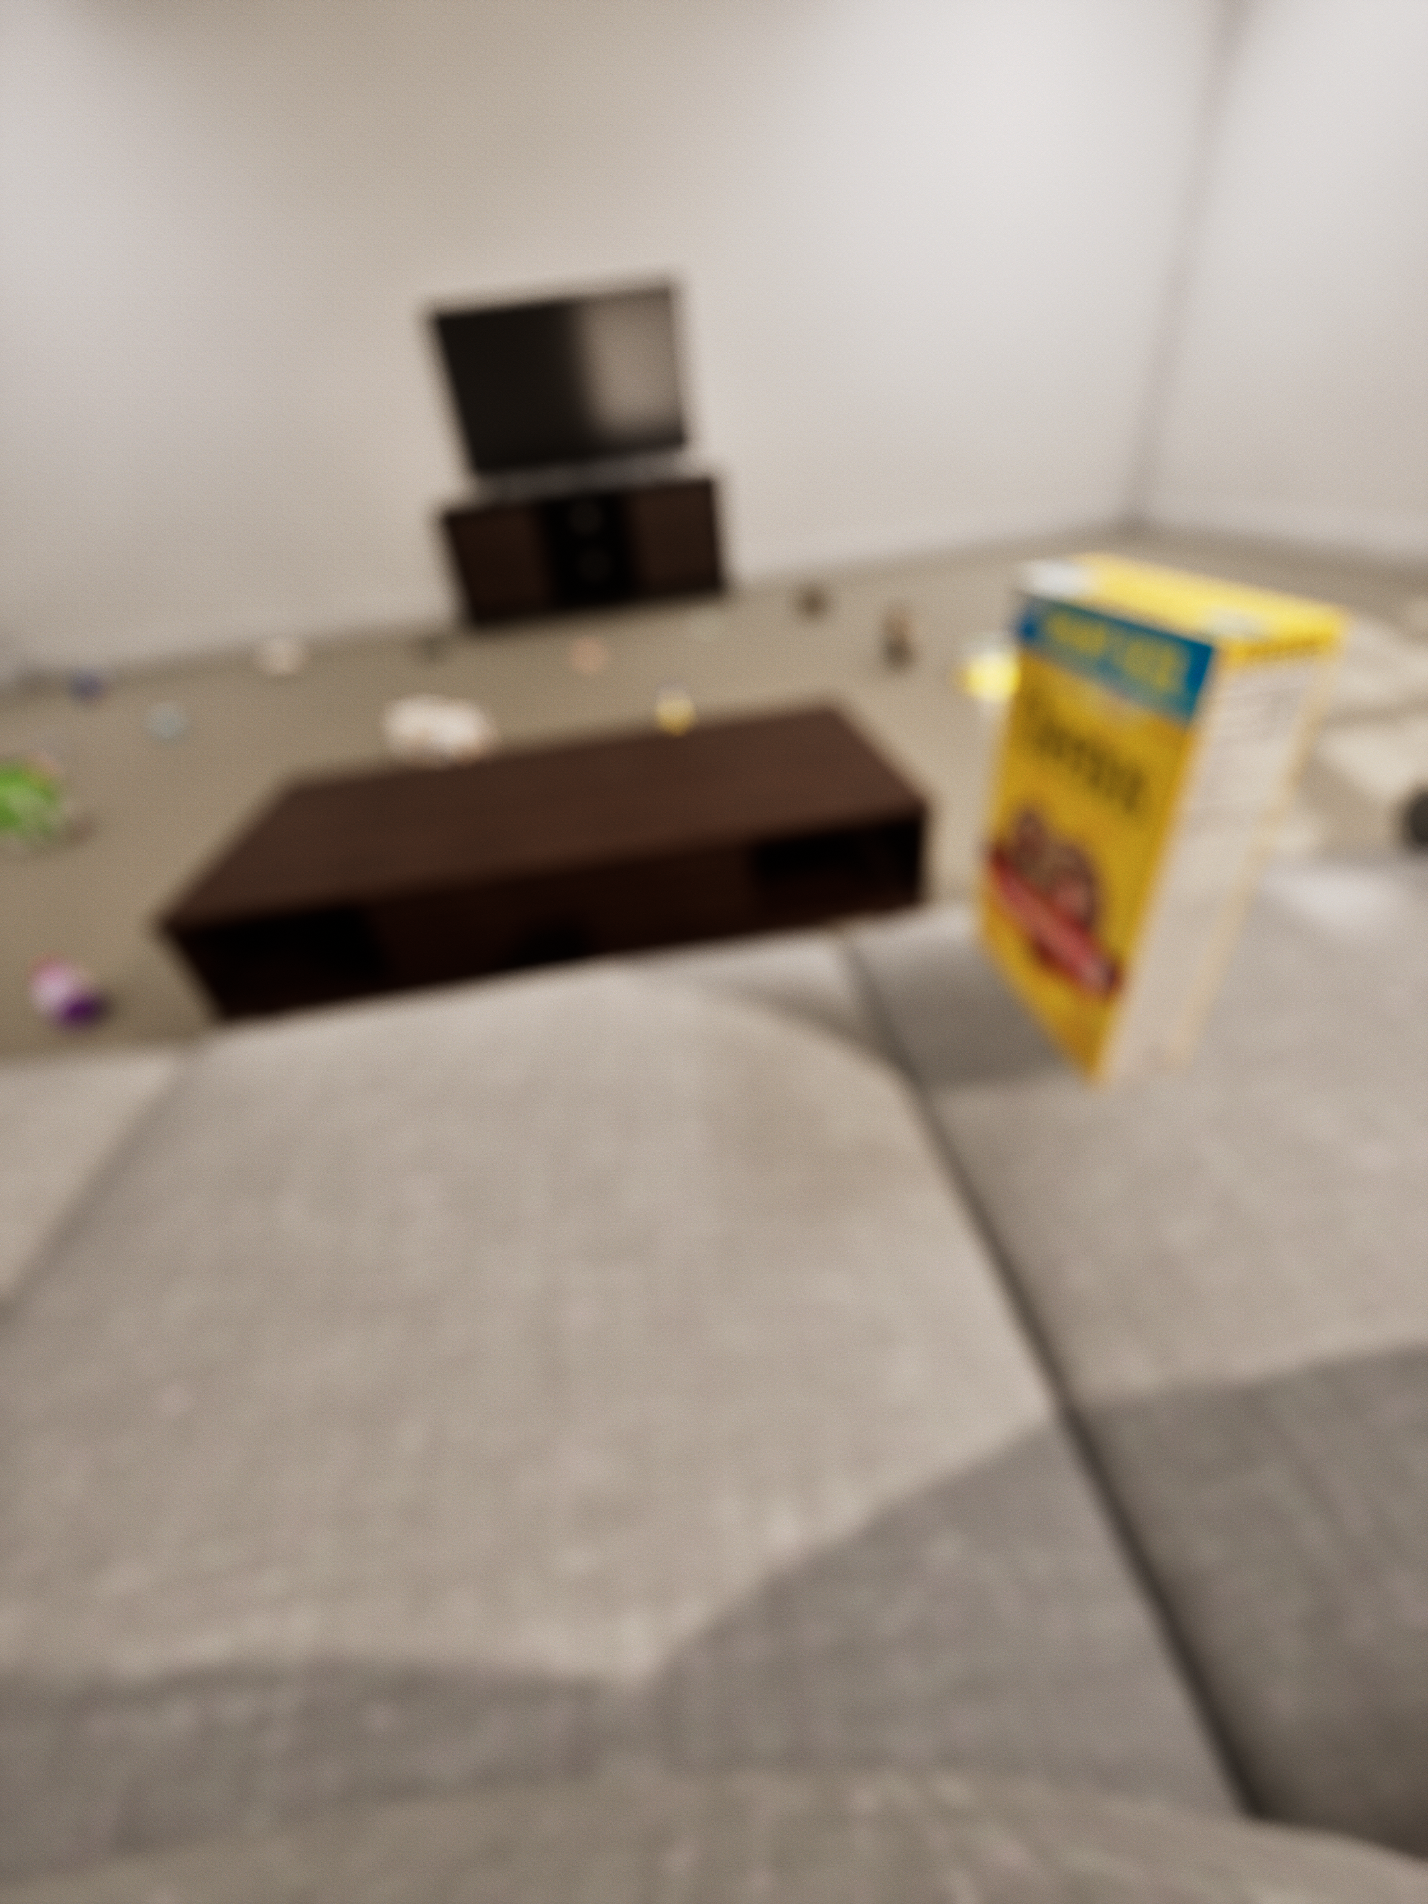cheerios: (972, 565, 1348, 1090)
